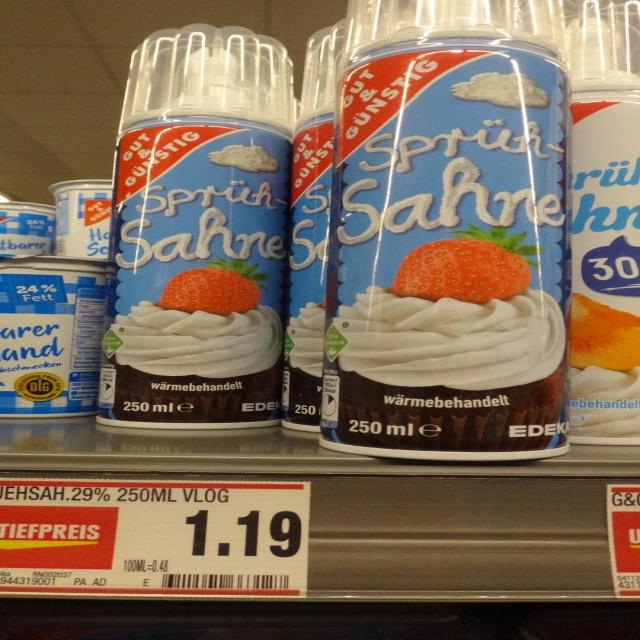Cream: (321, 0, 568, 461), (97, 24, 295, 429), (567, 0, 640, 446), (281, 22, 345, 432), (0, 256, 115, 417)
